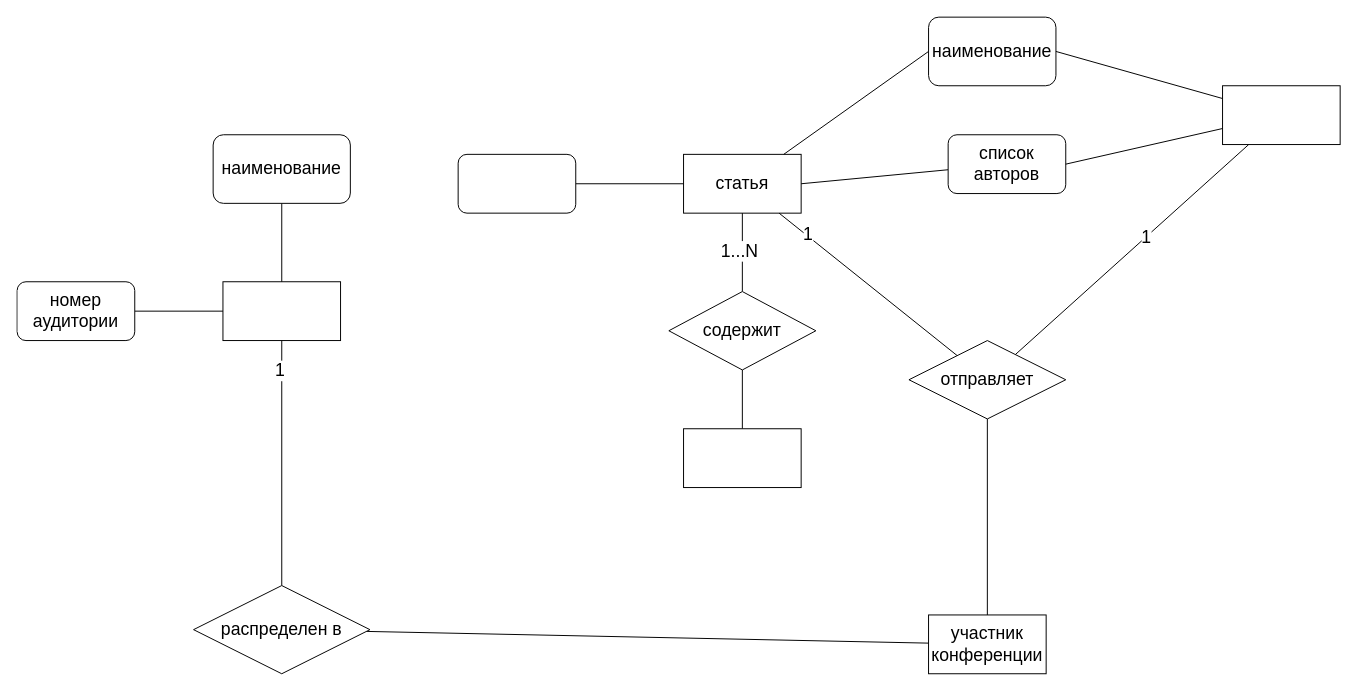
The diagram is 1357 pixels wide and 691 high, and some of its shapes have lost their labels. Here are the shapes that lost their labels. From the top down, the centre of each, then its label:
pixel 1281 115: презентация
pixel 516 183: количеств листов
pixel 281 311: секция
pixel 742 458: сборник статей
